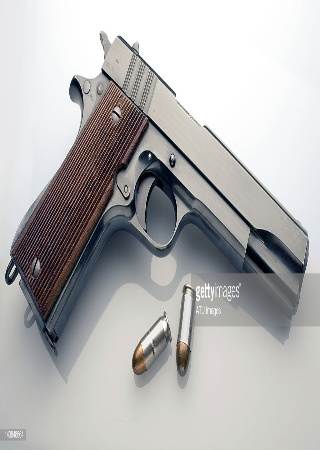handgun: (3, 26, 311, 353)
